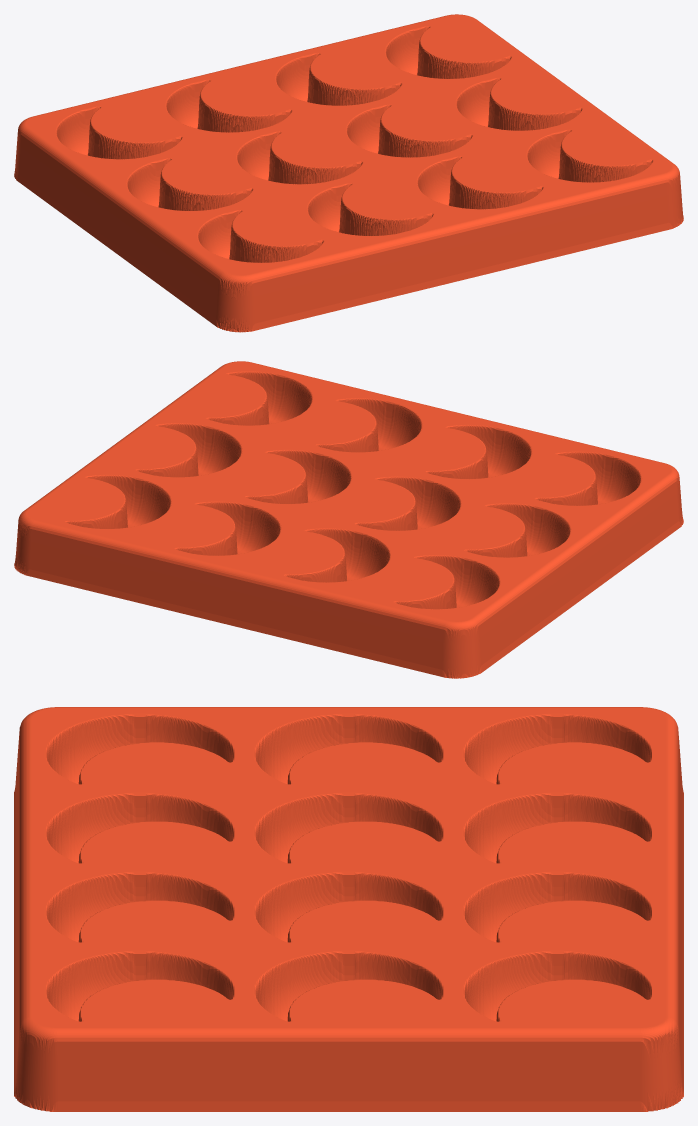
The model's file is mold.glb.
3 renders of one model, top to bottom at view 1: azimuth 30°, elevation 25°; view 2: azimuth 150°, elevation 25°; view 3: azimuth 270°, elevation 25°, orthographic. The views are drawn at different scales.
Visible parts, largest first — view 1: geometry_0; view 2: geometry_0; view 3: geometry_0.
Boxes of the visible parts, x1,y1,x2,y2 form: geometry_0: (14, 14, 683, 332); geometry_0: (14, 361, 683, 678); geometry_0: (14, 707, 683, 1111).
Bounding box in the file's own units: 0.1642 × 0.0175 × 0.1389.
